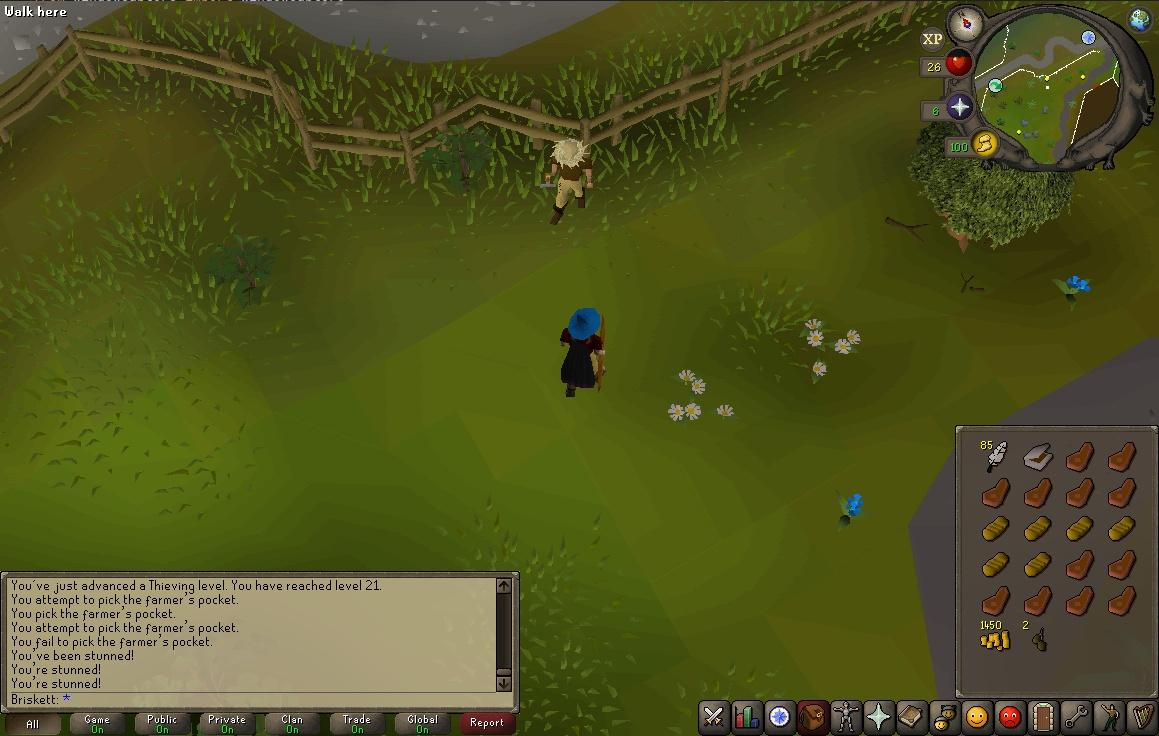Farmer: (544, 138, 595, 226)
